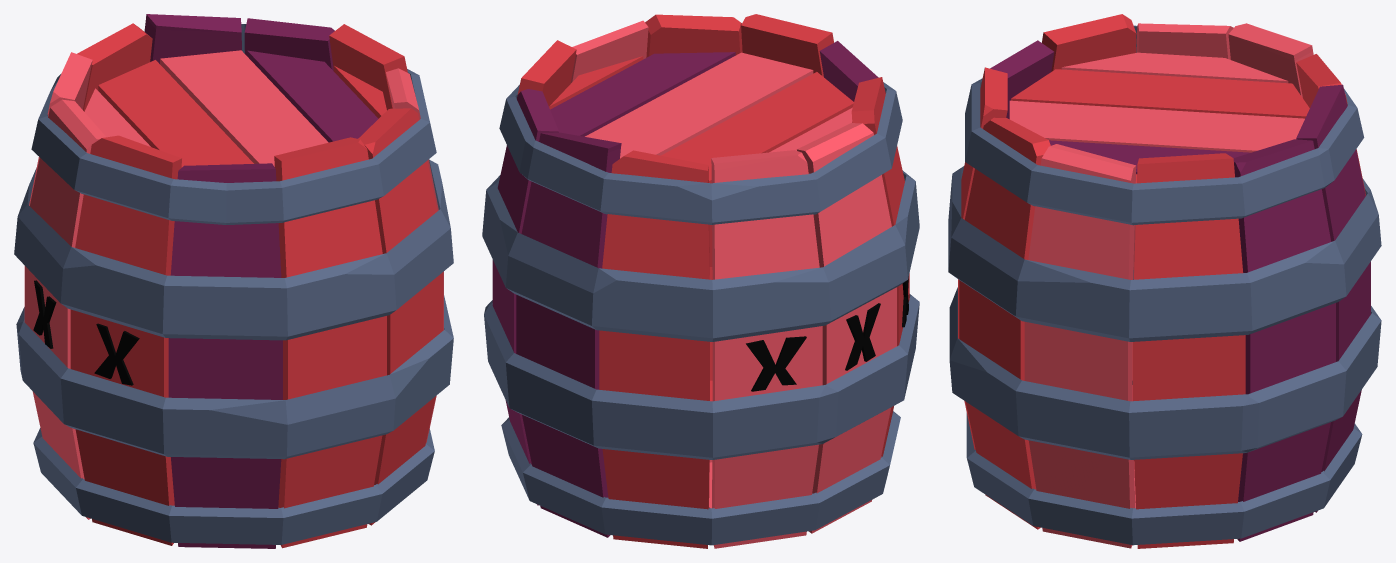
The model's file is Barrel 2_6.fbx.
3 renders of one model, left to right at view 1: azimuth 30°, elevation 25°; view 2: azimuth 150°, elevation 25°; view 3: azimuth 270°, elevation 25°, orthographic.
Parts seen in each view (by area): view 1: Barrel 2_6; view 2: Barrel 2_6; view 3: Barrel 2_6.
Boxes of the visible parts, <box> form: Barrel 2_6: <box>14,14,453,548</box>; Barrel 2_6: <box>482,14,919,548</box>; Barrel 2_6: <box>948,14,1381,548</box>.
Size of the model in its own units: 92.04 by 90.18 by 91.1.
